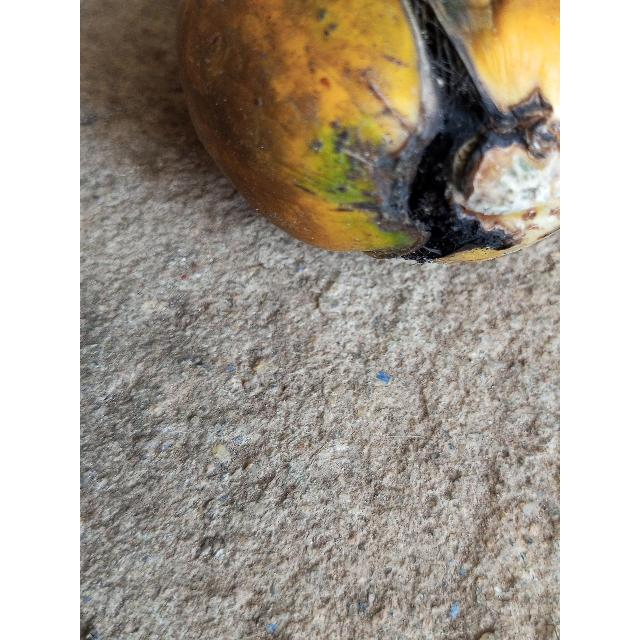damaged: (174, 0, 560, 262)
